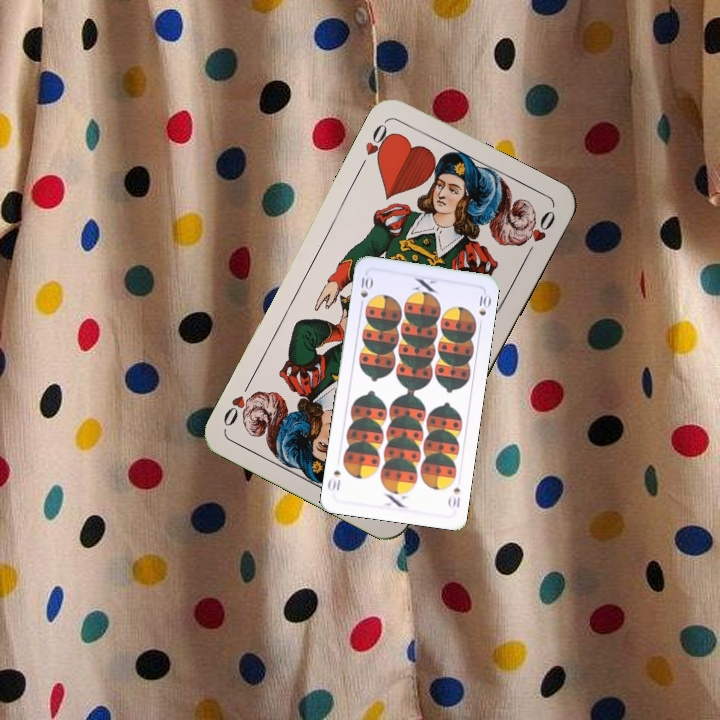HO: (355, 118, 396, 173)
S10: (356, 270, 374, 311), (444, 483, 463, 511)
